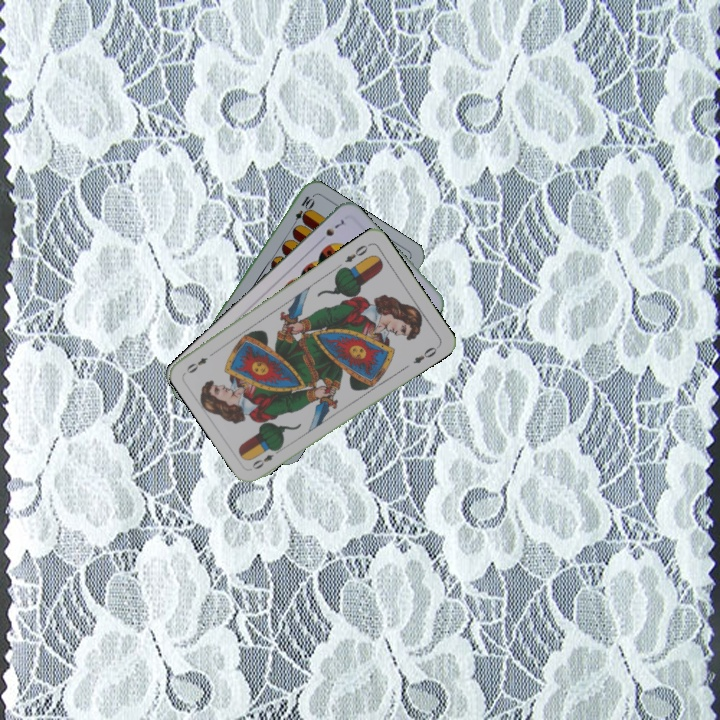E10: (288, 192, 316, 230)
EO: (248, 444, 284, 472), (341, 239, 373, 265)
S7: (315, 216, 347, 245)
